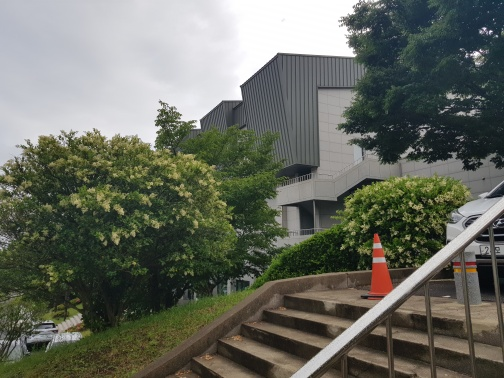Gym: (212, 37, 392, 266)
